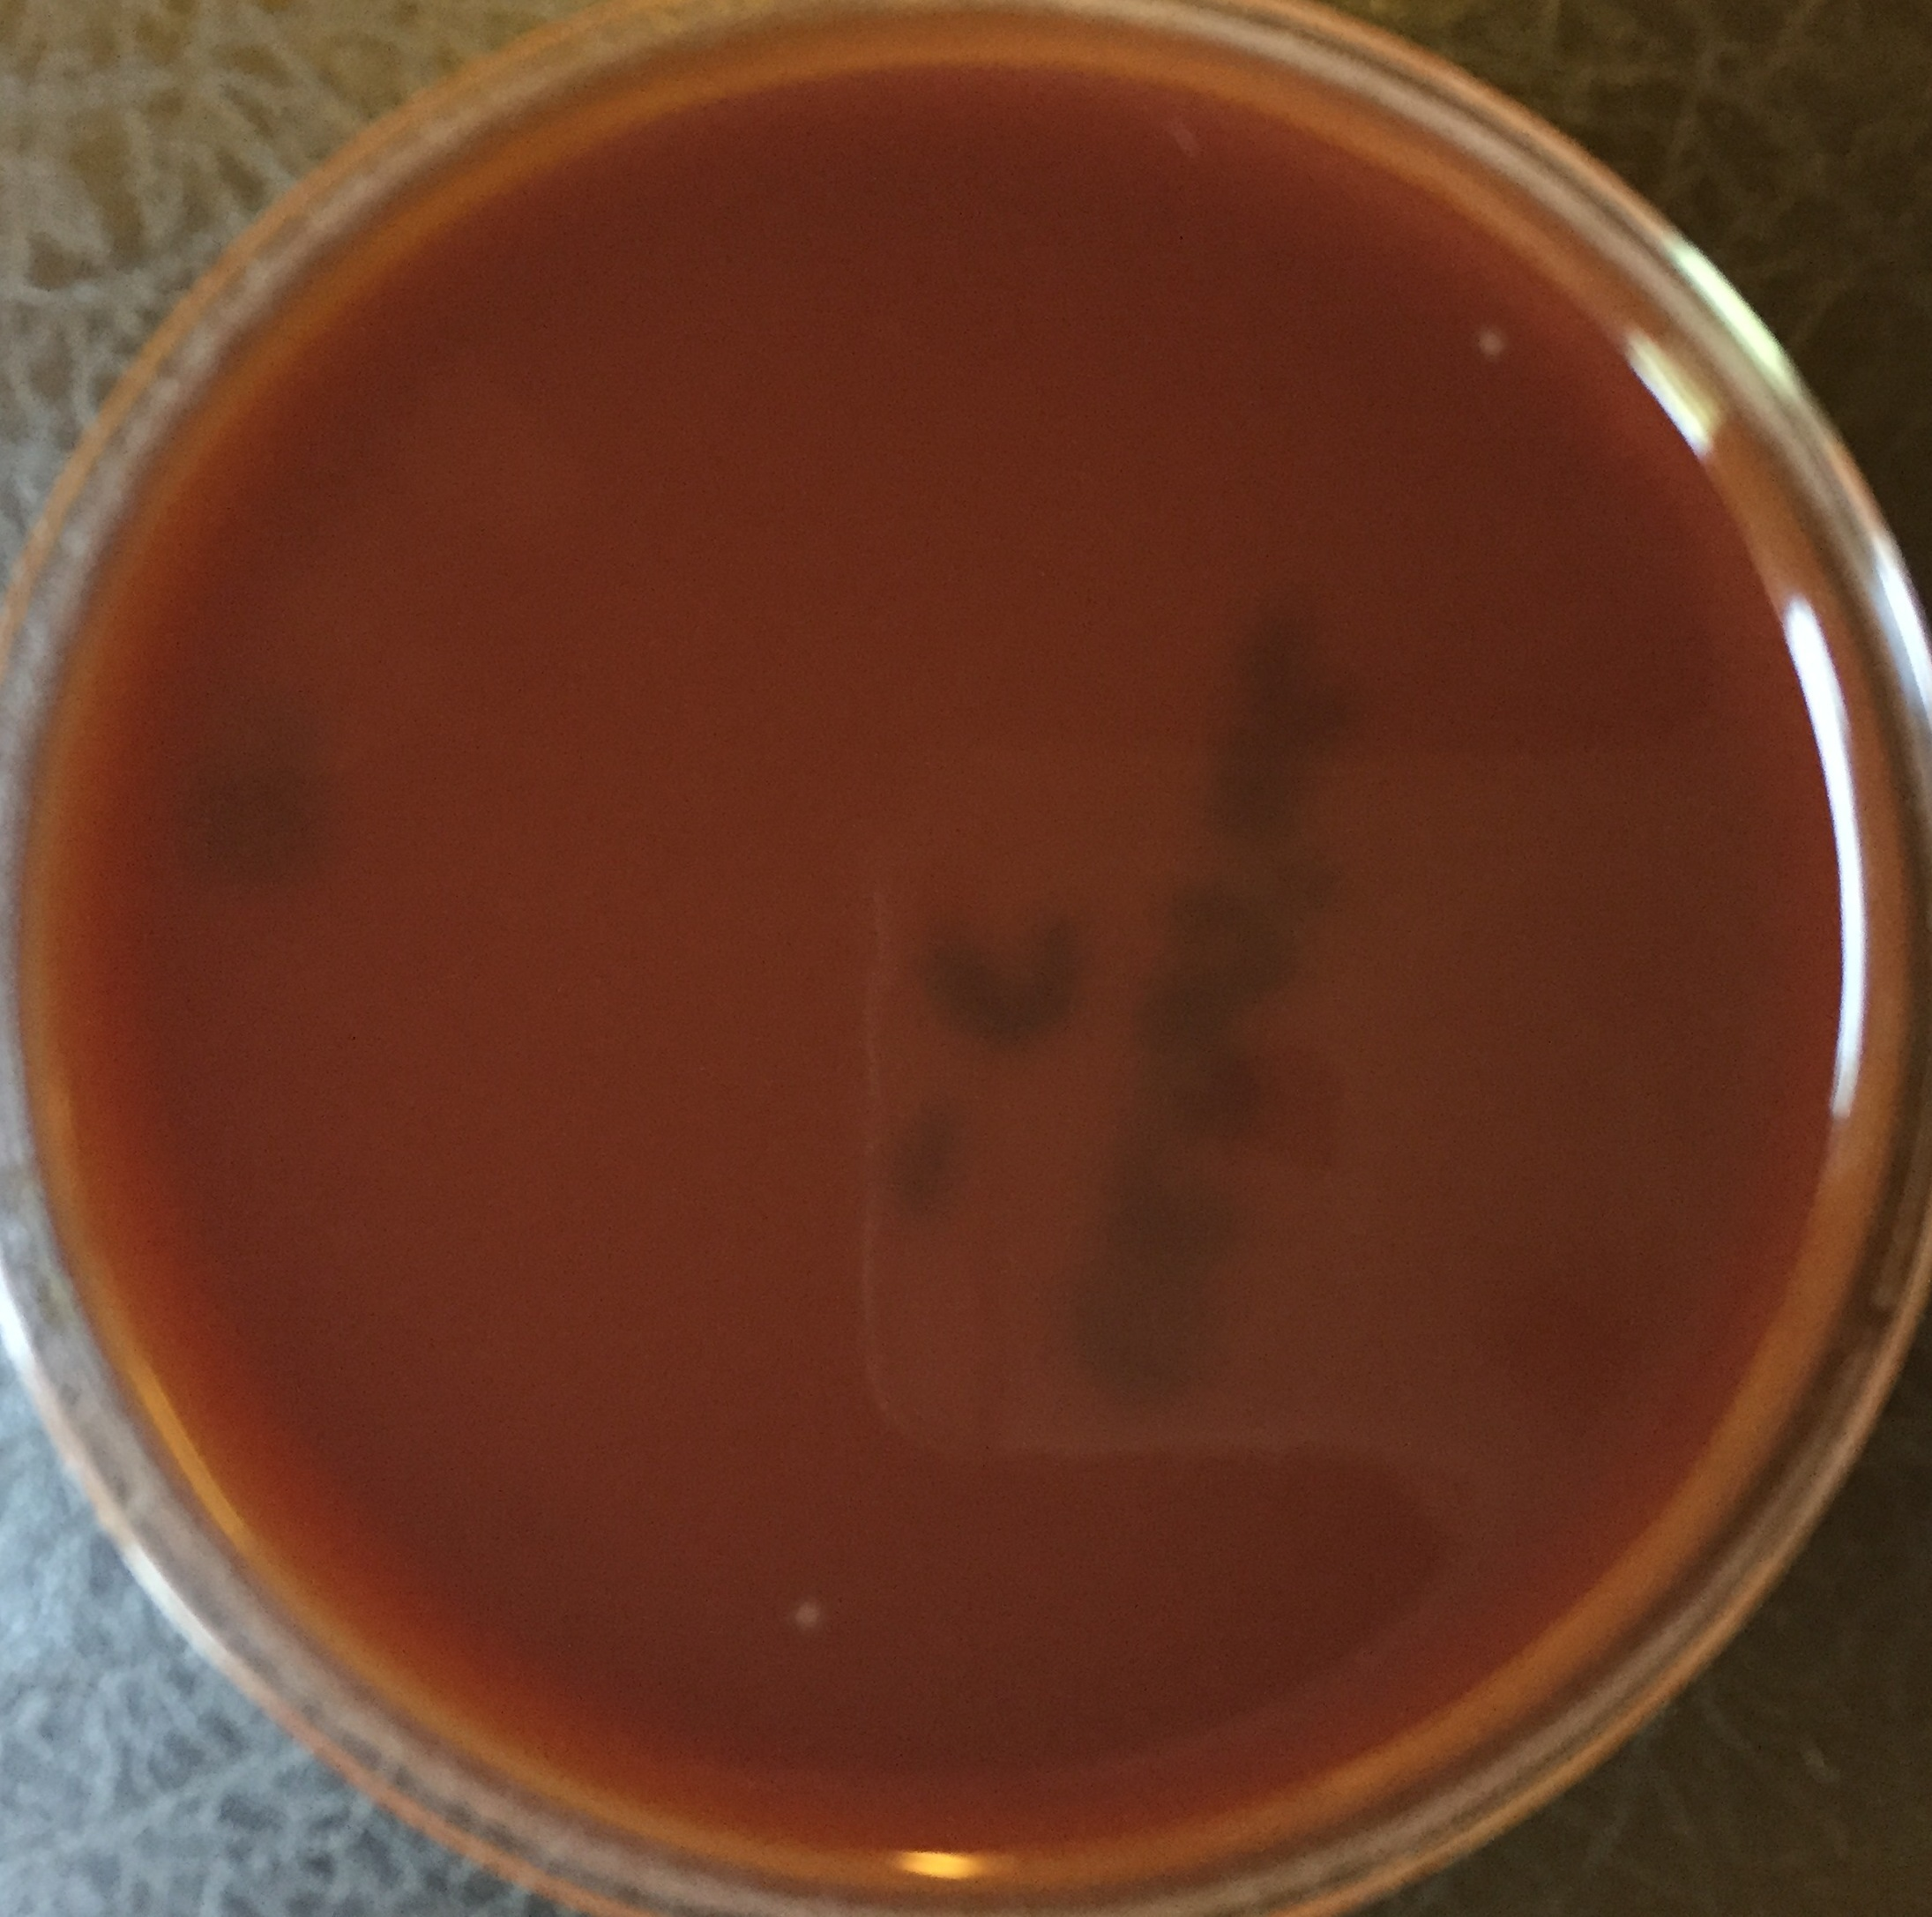sp06: (786, 1587, 832, 1634), (1472, 318, 1511, 360)
